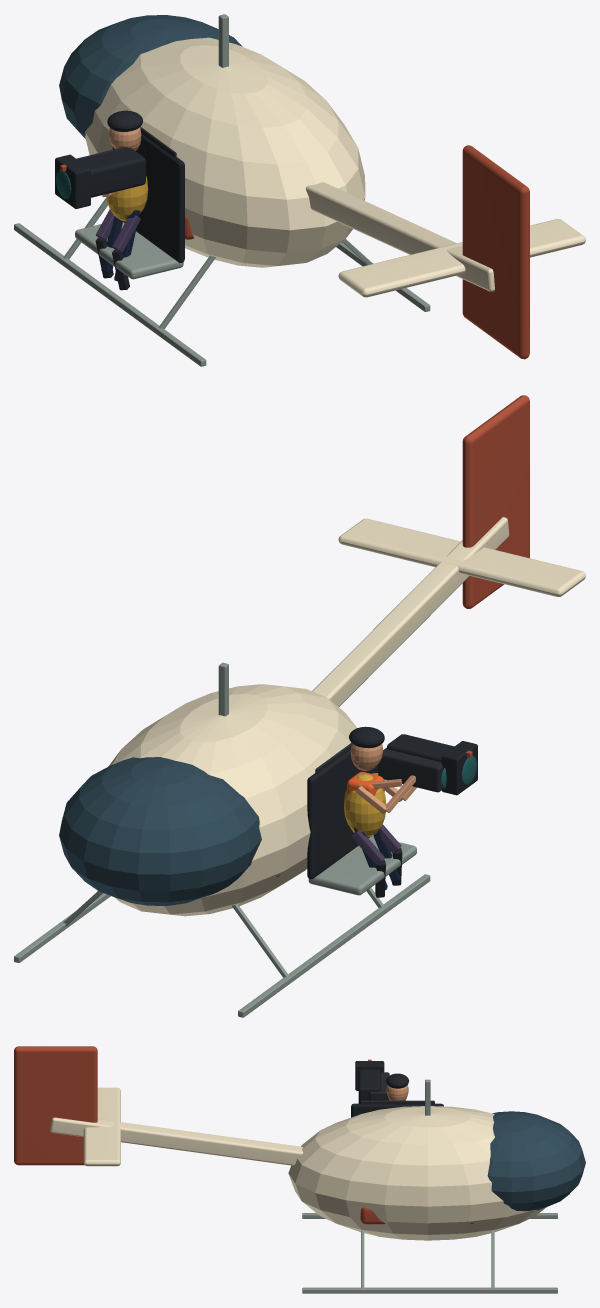
File: helicopter.glb
3 views of the same model, one above another, from view 1: azimuth 30°, elevation 25°; view 2: azimuth 150°, elevation 25°; view 3: azimuth 270°, elevation 25° (orthographic). The views are drawn at different scales.
Parts seen in each view (by area): view 1: ivory, red, ink, glass, metal, yellow, plum, navy, d49b76; view 2: ivory, glass, red, ink, metal, dark, yellow, d49b76, plum; view 3: ivory, red, glass, metal, ink, dark.
Boxes of the visible parts, box(x1,y1,x2,y2) form: ivory: box(85, 37, 585, 297); red: box(60, 145, 529, 359); ink: box(55, 110, 184, 290); glass: box(59, 15, 242, 138); metal: box(14, 14, 430, 366); yellow: box(106, 176, 148, 221); plum: box(96, 209, 140, 252); navy: box(101, 210, 139, 281); d49b76: box(102, 127, 141, 197); ivory: box(108, 517, 585, 916); glass: box(59, 757, 261, 905); red: box(276, 395, 529, 877); ink: box(307, 726, 477, 897); metal: box(14, 662, 430, 1017); dark: box(315, 743, 442, 792); yellow: box(344, 773, 386, 837); d49b76: box(350, 743, 416, 813); plum: box(351, 824, 401, 865); ivory: box(50, 1087, 545, 1240); red: box(14, 1046, 473, 1224); glass: box(487, 1111, 585, 1211); metal: box(302, 1079, 557, 1293); ink: box(351, 1061, 443, 1117); dark: box(360, 1072, 434, 1104).
Size of the model in its own units: 5.43 by 4.95 by 12.3.
